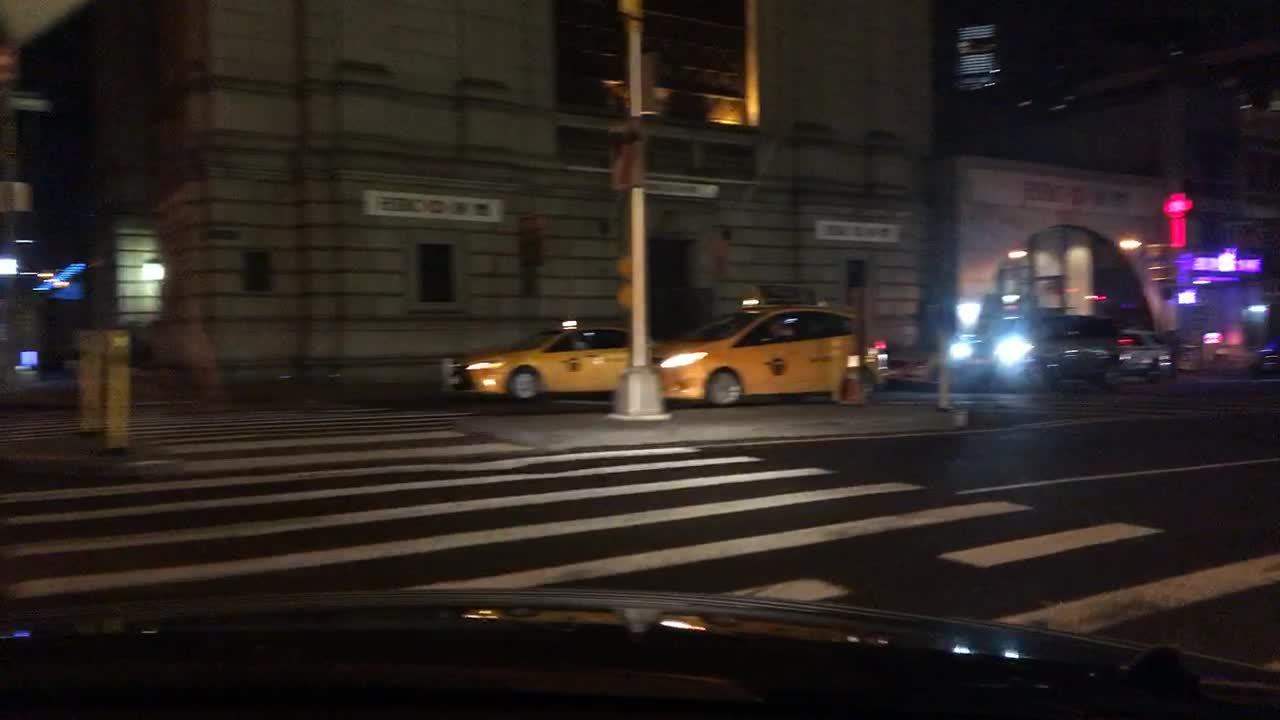car: (654, 303, 903, 408), (454, 321, 664, 408), (949, 313, 1133, 389), (875, 334, 1003, 392), (1117, 329, 1177, 385), (1256, 333, 1277, 377)
